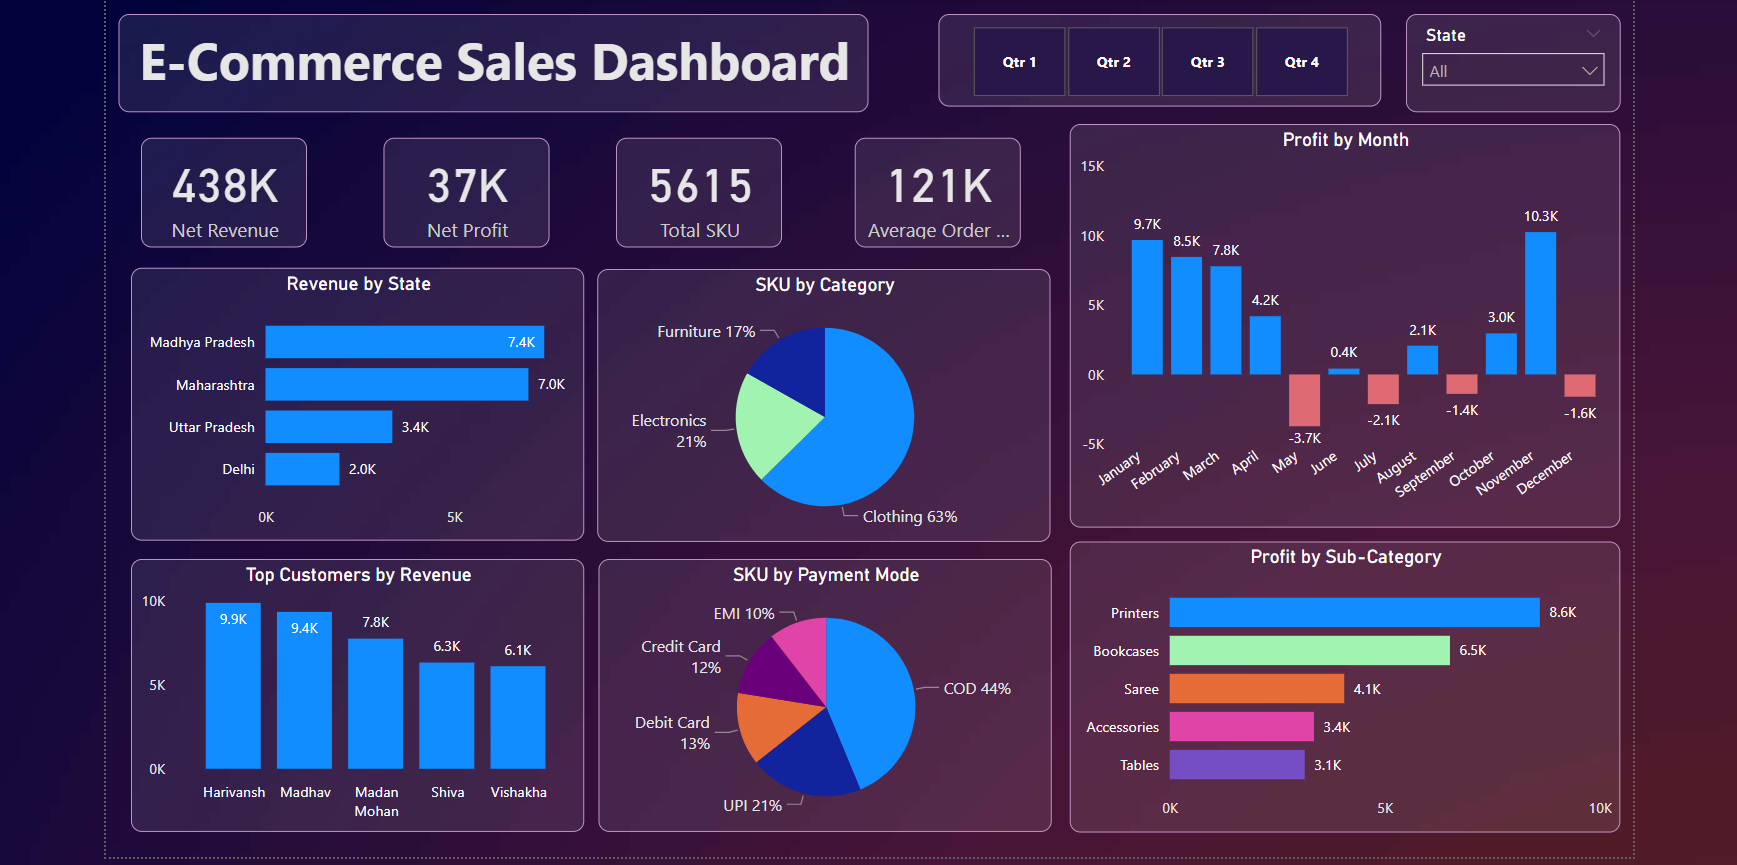

The dashboard page shown, as its layout file describes it:
{"tool":"powerbi","page":{"name":"Page 1","canvas":[1280,720],"ordinal":0},"visuals":[{"type":"textbox","box":[10.5,12.8,629.1,82.6],"z":0},{"type":"columnChart","title":"Profit by Month","fields":{"Category":["Orders.Order Date.Variation.Date Hierarchy.Month"],"Y":["Details.Profit"]},"box":[808.1,104.7,461.6,338.4],"z":1000},{"type":"barChart","title":"Profit by Sub-Category","fields":{"Category":["Details.Sub-Category"],"Y":["Details.Profit"]},"box":[808.1,454.7,461.6,244.2],"z":2000},{"type":"pieChart","title":"SKU by Category","fields":{"Category":["Details.Category"],"Y":["Details.Quantity"]},"box":[411.6,226.7,380.2,229.1],"z":3000},{"type":"pieChart","title":"SKU by Payment Mode","fields":{"Y":["Details.Quantity"],"Category":["Details.PaymentMode"]},"box":[412.8,469.8,380.2,229.1],"z":4000},{"type":"card","fields":{"Values":["Details.Amount"]},"box":[29.1,116.3,139.5,91.9],"z":5000},{"type":"card","fields":{"Values":["Details.Profit"]},"box":[232.6,116.3,139.5,91.9],"z":6000},{"type":"card","fields":{"Values":["Details.Quantity"]},"box":[427.9,116.3,139.5,91.9],"z":7000},{"type":"card","fields":{"Values":["Details.AOV"]},"box":[627.9,116.3,139.5,91.9],"z":8000},{"type":"barChart","title":"Revenue by State","fields":{"Y":["Details.Profit"],"Category":["Orders.State"]},"box":[20.9,225.6,380.2,229.1],"z":9000},{"type":"columnChart","title":"Top Customers by Revenue","fields":{"Y":["Details.Amount"],"Category":["Orders.CustomerName"]},"box":[20.9,469.8,380.2,229.1],"z":10000},{"type":"slicer","fields":{"Values":["Orders.Order Date.Variation.Date Hierarchy.Quarter"]},"box":[697.7,12.8,370.9,77.9],"z":11000},{"type":"slicer","fields":{"Values":["Orders.State"]},"box":[1089.5,12.8,180.2,82.6],"z":12000}]}

Visuals, with their boxes on the page's 1280x720 design canvas (x1, y1, x2, y2). These are canvas units, not pixel positions in the 1737x865 screenshot, which may show the page scaled, cropped or inside an application window:
textbox: left=10, top=13, right=640, bottom=95
"Profit by Month" columnChart: left=808, top=105, right=1270, bottom=443
"Profit by Sub-Category" barChart: left=808, top=455, right=1270, bottom=699
"SKU by Category" pieChart: left=412, top=227, right=792, bottom=456
"SKU by Payment Mode" pieChart: left=413, top=470, right=793, bottom=699
card - Details.Amount: left=29, top=116, right=169, bottom=208
card - Details.Profit: left=233, top=116, right=372, bottom=208
card - Details.Quantity: left=428, top=116, right=567, bottom=208
card - Details.AOV: left=628, top=116, right=767, bottom=208
"Revenue by State" barChart: left=21, top=226, right=401, bottom=455
"Top Customers by Revenue" columnChart: left=21, top=470, right=401, bottom=699
slicer - Orders.Order Date.Variation.Date Hierarchy.Quarter: left=698, top=13, right=1069, bottom=91
slicer - Orders.State: left=1090, top=13, right=1270, bottom=95
